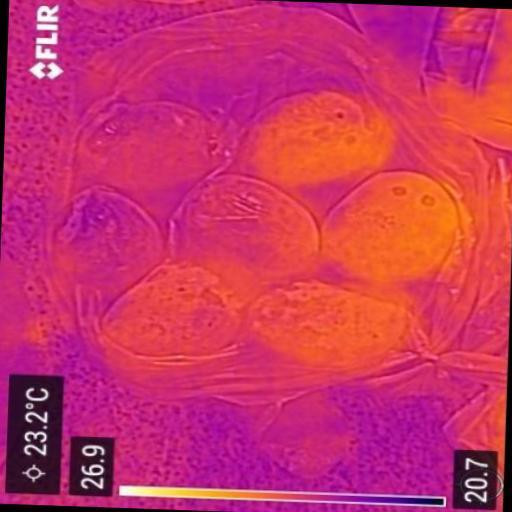alphanso: (322, 171, 458, 284), (249, 280, 410, 372), (242, 90, 393, 186), (178, 174, 318, 276), (101, 261, 241, 361), (87, 101, 220, 191), (54, 186, 164, 291)
